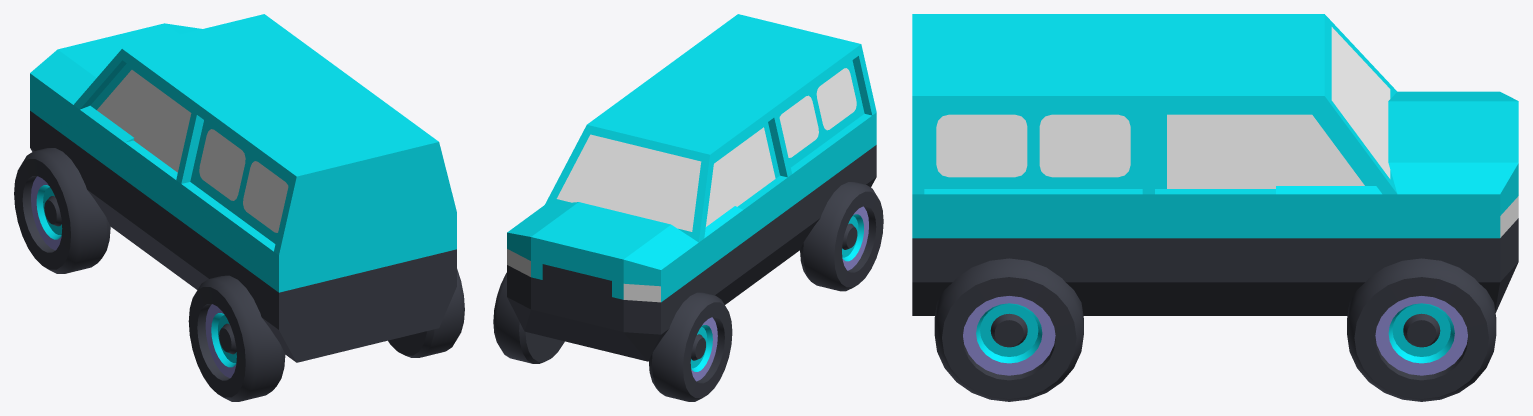
Rendered from obstacle_jeep.glb.
3 views of the same model, side by side, from view 1: azimuth 30°, elevation 25°; view 2: azimuth 150°, elevation 25°; view 3: azimuth 270°, elevation 25° (orthographic). The views are drawn at different scales.
Parts seen in each view (by area): view 1: mergedBlocks(Clone); view 2: mergedBlocks(Clone); view 3: mergedBlocks(Clone).
Boxes of the visible parts, x1,y1,x2,y2 form: mergedBlocks(Clone): [14, 14, 464, 401]; mergedBlocks(Clone): [493, 14, 883, 401]; mergedBlocks(Clone): [912, 14, 1518, 401].
Size of the model in its own units: 1.23 by 1.31 by 2.5.
